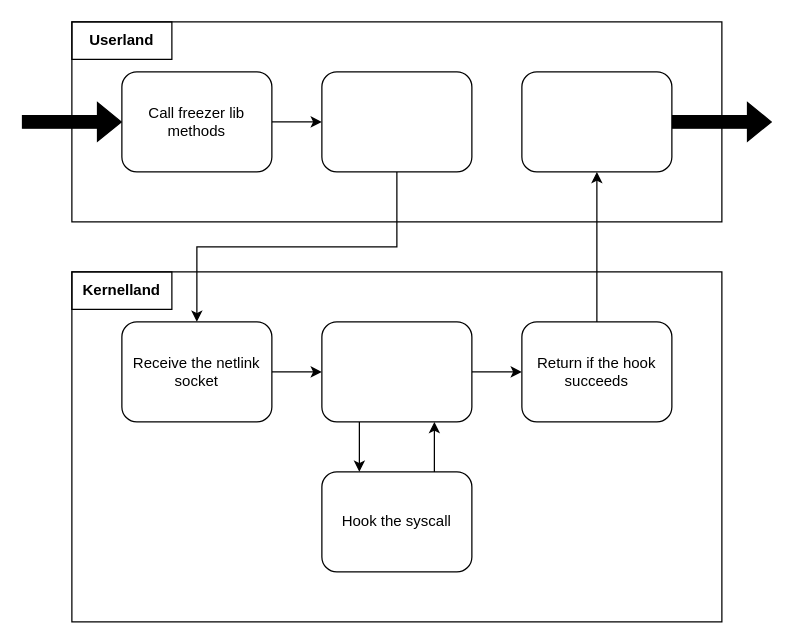
This 793x644 diagram has some shape labels left out. Each missing label, with the centre of its shape:
Return to the user if the freezer lib method succeeds: the point at 596,121
Send the netlink socket to the kernel: the point at 396,121
Wrap the syscalls from the socket data: the point at 396,371
